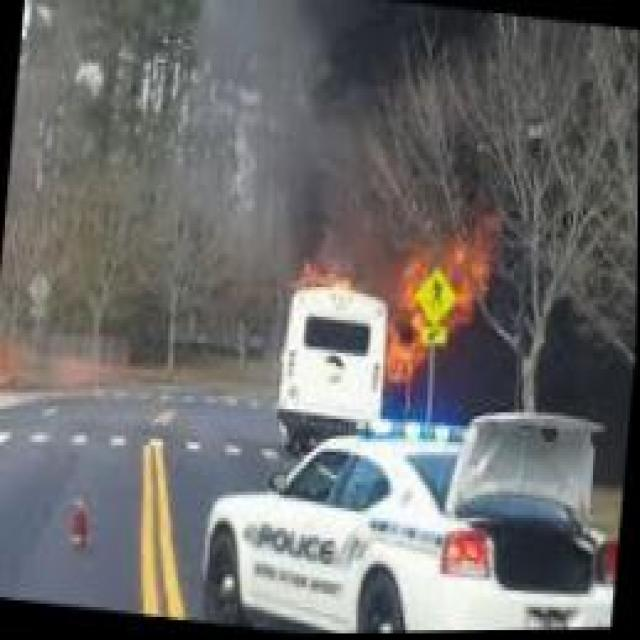Fire: (282, 188, 516, 406)
Smoke: (158, 0, 405, 267)
